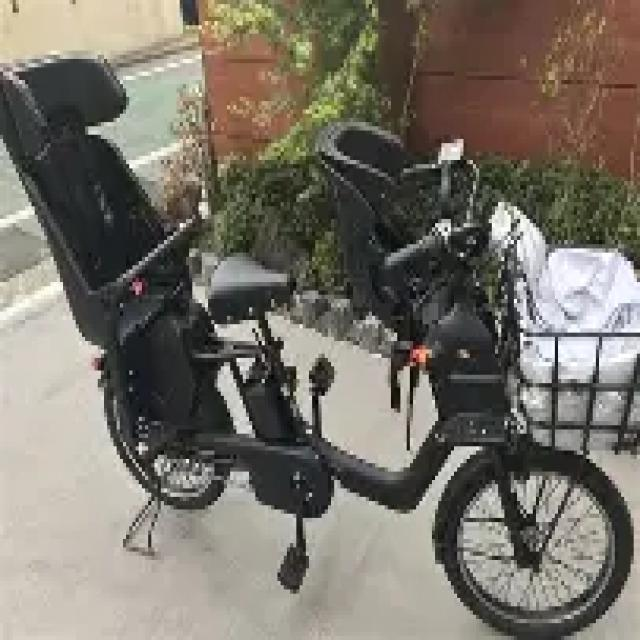basket: (508, 246, 640, 452)
battery: (242, 356, 300, 455)
childseat: (0, 43, 220, 421), (318, 116, 521, 440)
